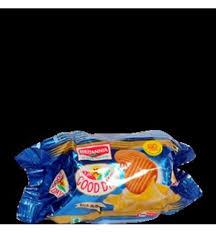gooday-small: (27, 132, 191, 223)
